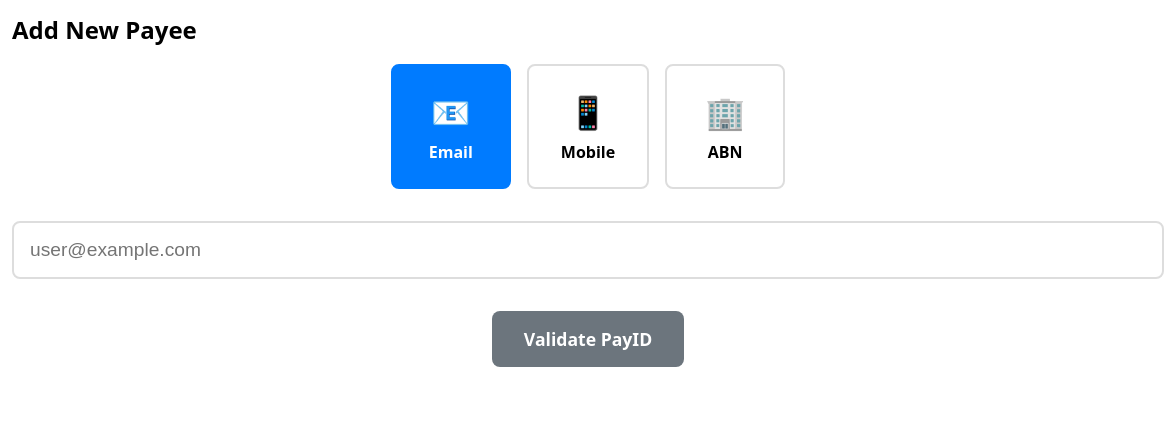
Scenario: AddNewPayee › PayID validation › should show confirmation screen when PayID validation succeeds
The image size is (1176, 443).
Type "john.smith@example.com" into the field with placeholder "user@example.com".
click(588, 250); type("john.smith@example.com")  # box [12,221,1164,279]
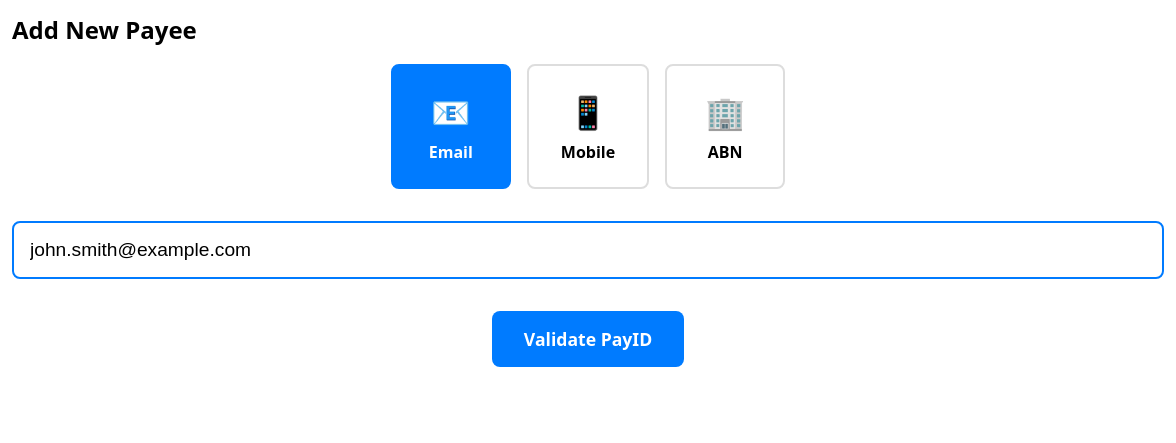
Click the button "Validate PayID".
click(588, 339)  # box [492,311,684,367]
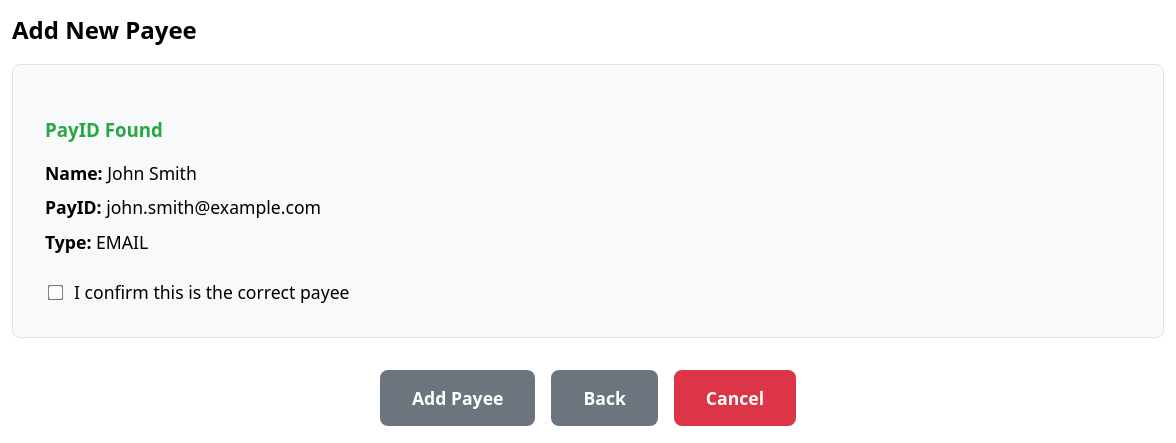
expect the heading "PayID Found" is shown: met, box [45,117,163,142]
expect the text "Name: John Smith" is shown: met, box [45,161,197,185]
expect the text "PayID: john.smith@example.com" is shown: met, box [45,195,321,219]
